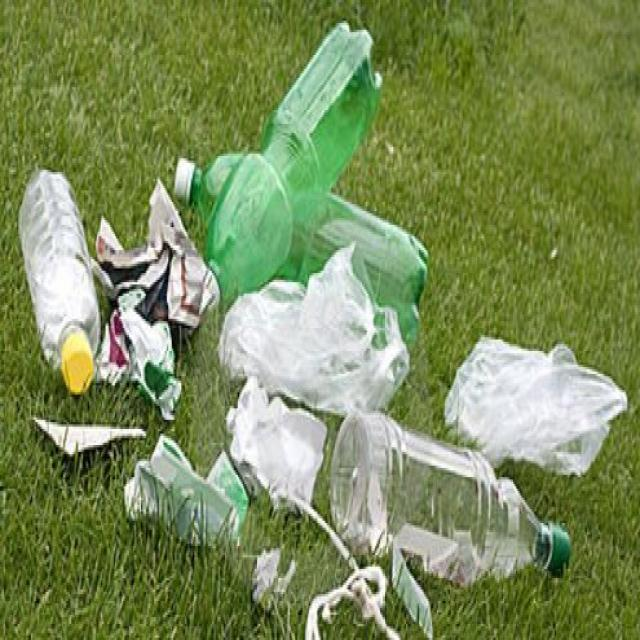dry: (195, 12, 392, 319), (212, 231, 410, 424), (441, 314, 638, 481), (9, 153, 112, 400), (122, 426, 236, 572), (138, 171, 224, 345), (31, 409, 150, 462)
